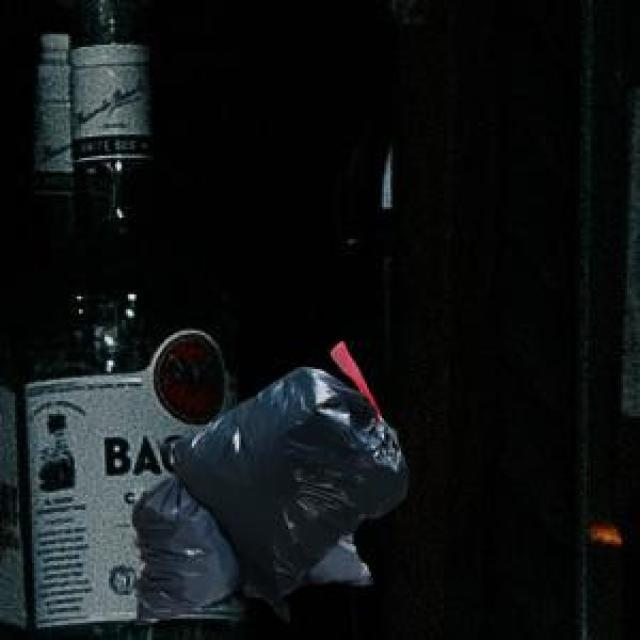Vinyl: (132, 368, 409, 621)
